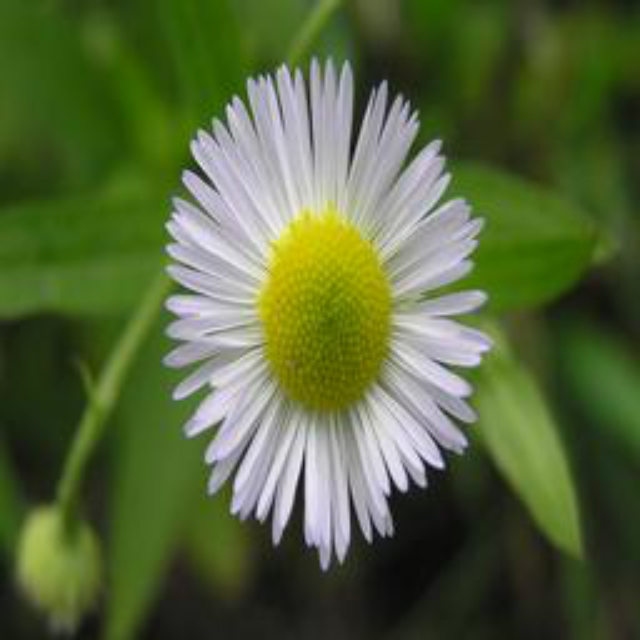daisy: (158, 53, 497, 575)
